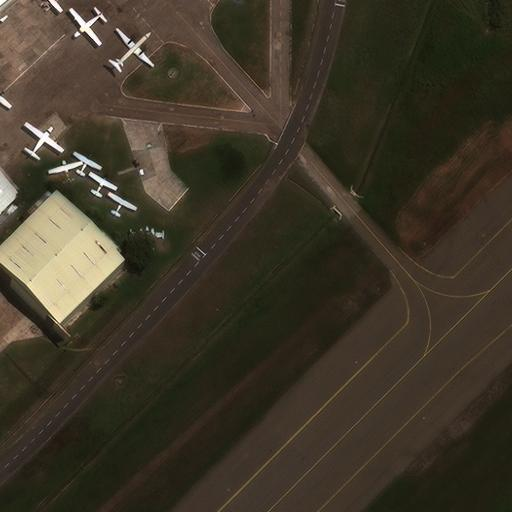Medium Civil Transport: (114, 28, 154, 67), (26, 121, 64, 156), (68, 11, 103, 46)
Small Civil Transport: (48, 160, 80, 181), (74, 151, 102, 175), (90, 171, 117, 195), (110, 191, 136, 215), (40, 0, 60, 13), (0, 90, 12, 108)
